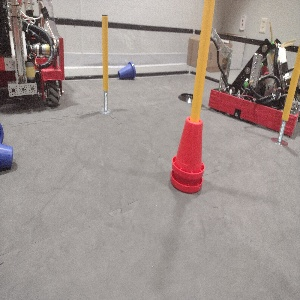Blue_1: (117, 55, 138, 83)
Red_2: (162, 115, 206, 197)
